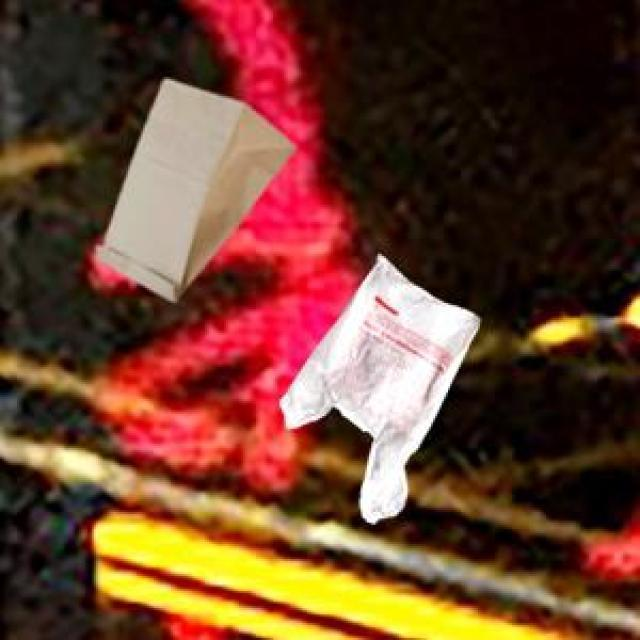paper: (92, 75, 292, 297)
